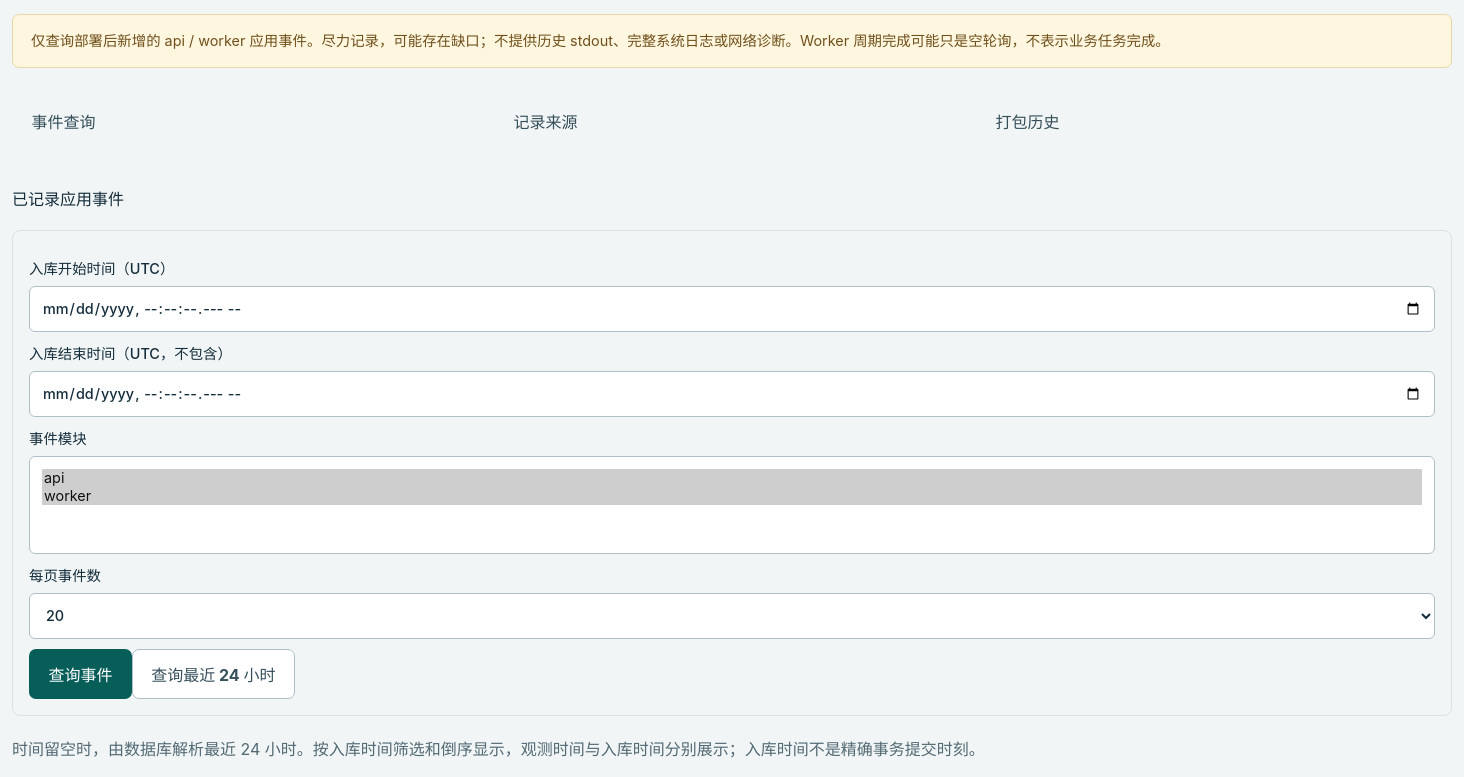
Scenario: operational journal UI and interruption safety › uses owner-aware access checks and supports reads without generic task permissions
Click the button "打包历史" at (1027,122), box [976, 96, 1452, 146]
(page scrolled)
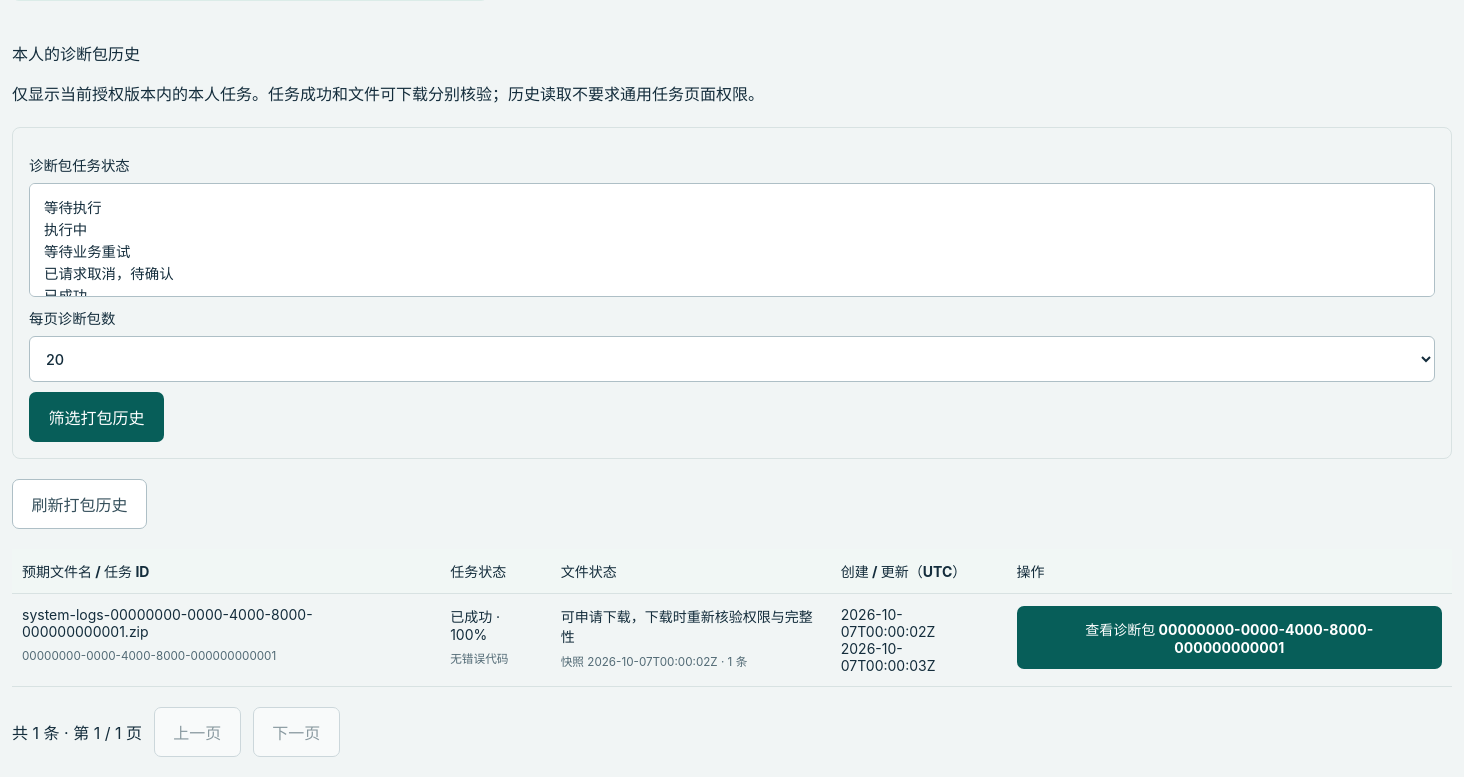
Expected: the table named "诊断包历史记录" is shown, [12, 549, 1452, 687]
